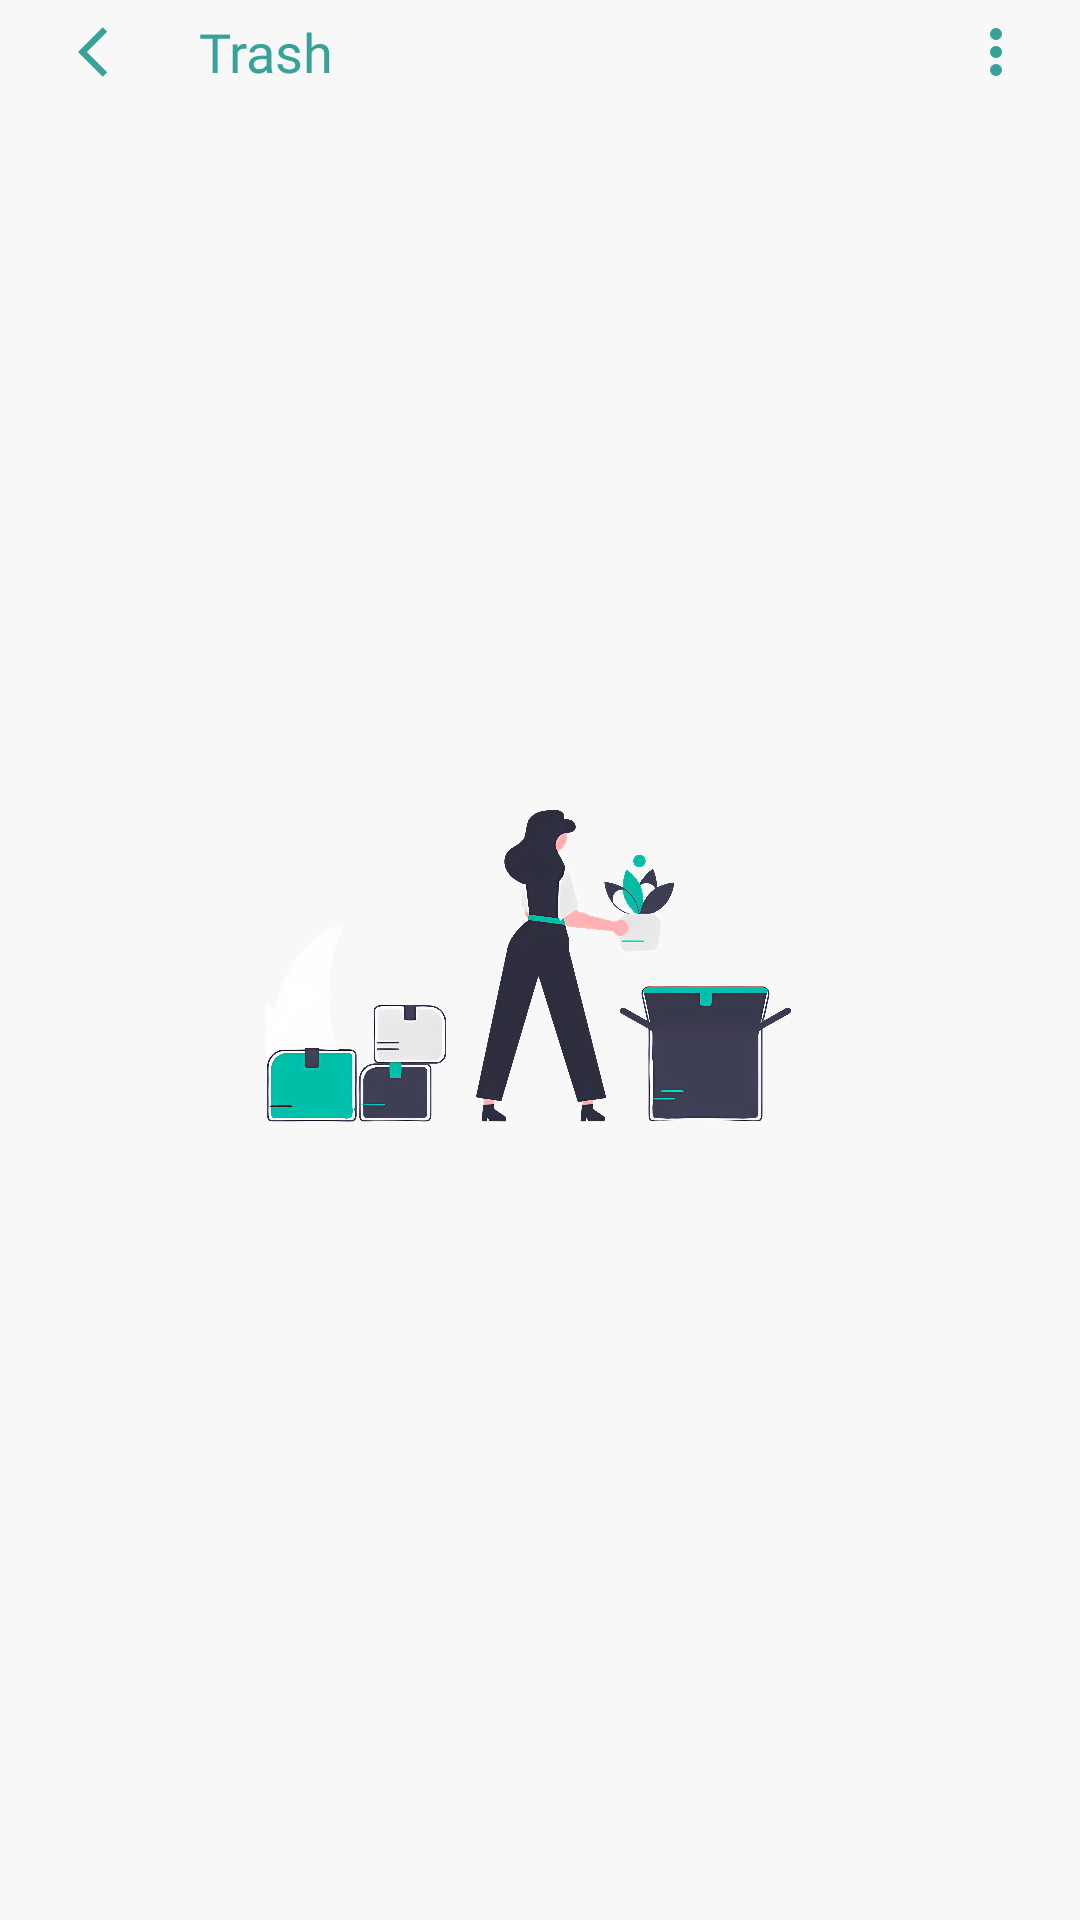

Where to tap for icons on this 1080 x 1920 app screen, as [x,y]:
exit: [92,52]
more: [996,52]
